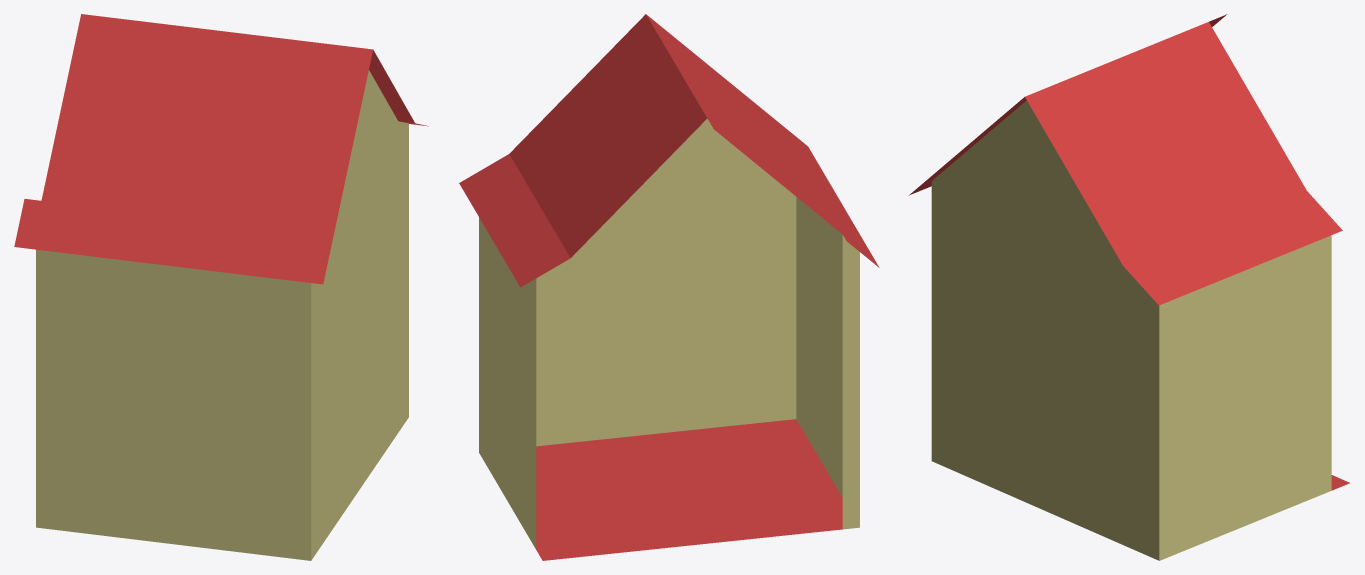
3 renders of one model, left to right at view 1: azimuth 30°, elevation 25°; view 2: azimuth 150°, elevation 25°; view 3: azimuth 270°, elevation 25°, orthographic. The views are drawn at different scales.
Size of the model in its own units: 14.24 by 13.48 by 13.97.
